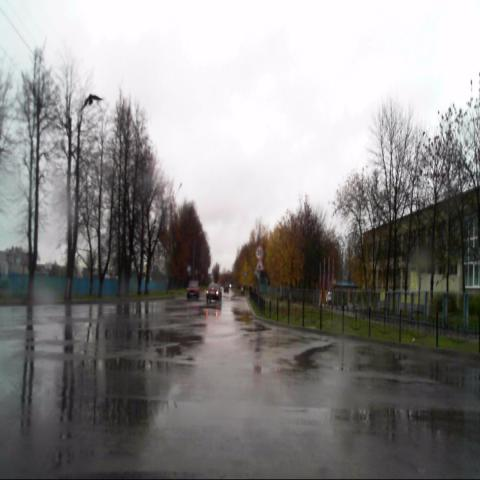1_17: (256, 258, 264, 271)
3_24: (256, 244, 264, 259)
